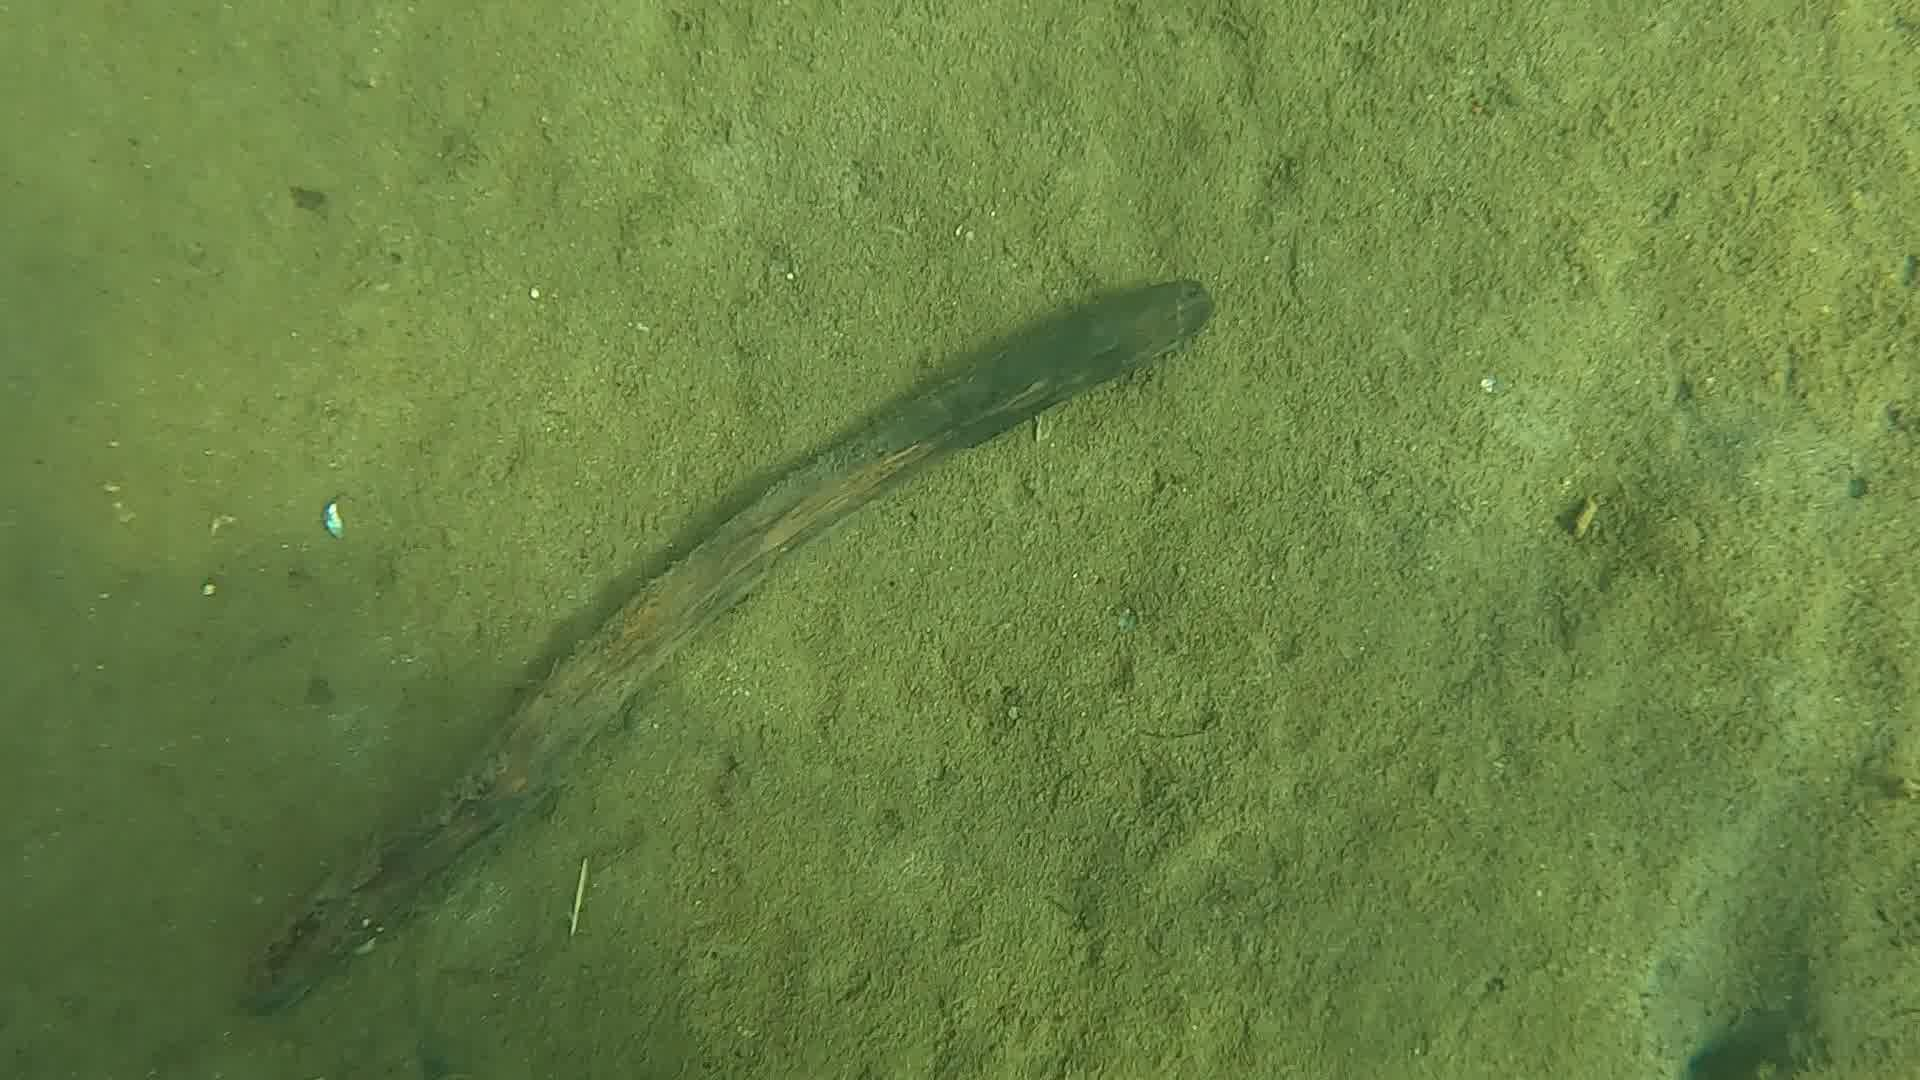wood: (251, 280, 1215, 1010)
